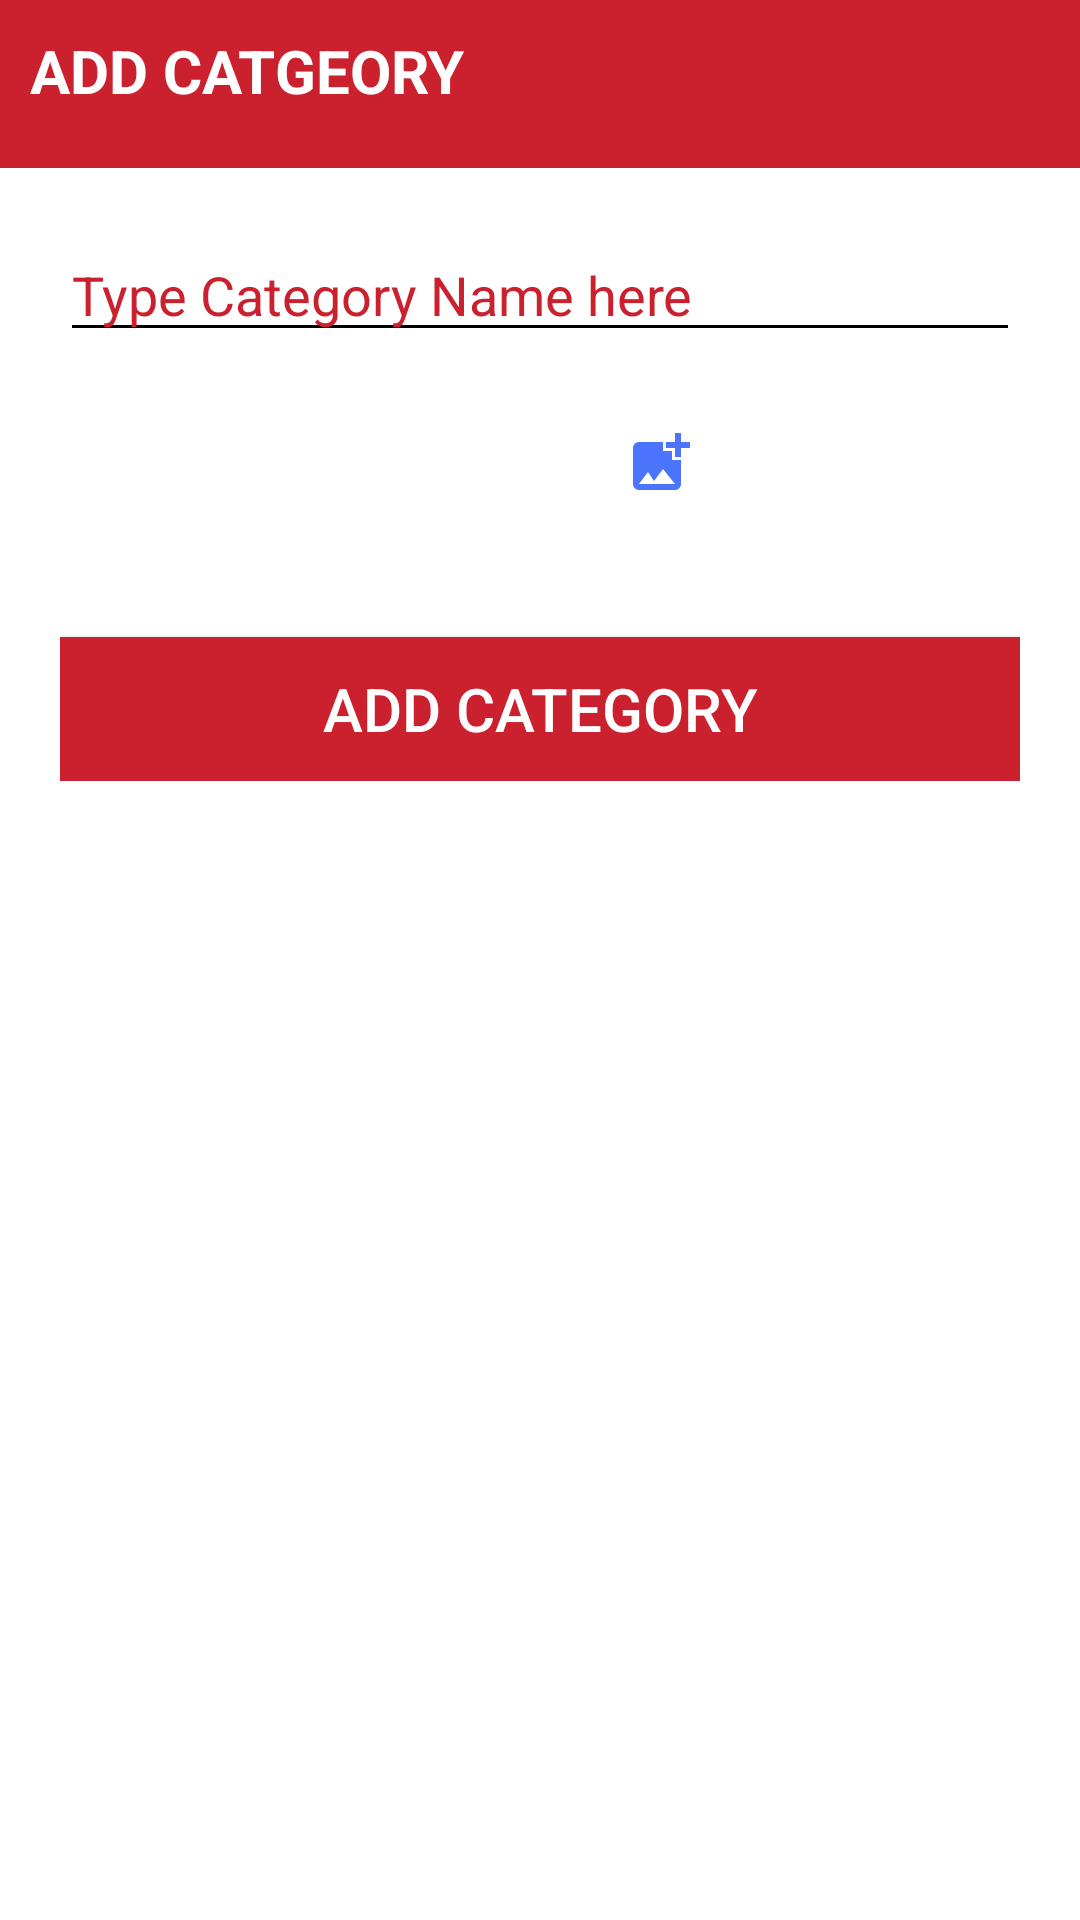

Screen size 1080×1920. Icon name, then its center in pixels as point (x, y):
add photo alternate: point (661, 461)
